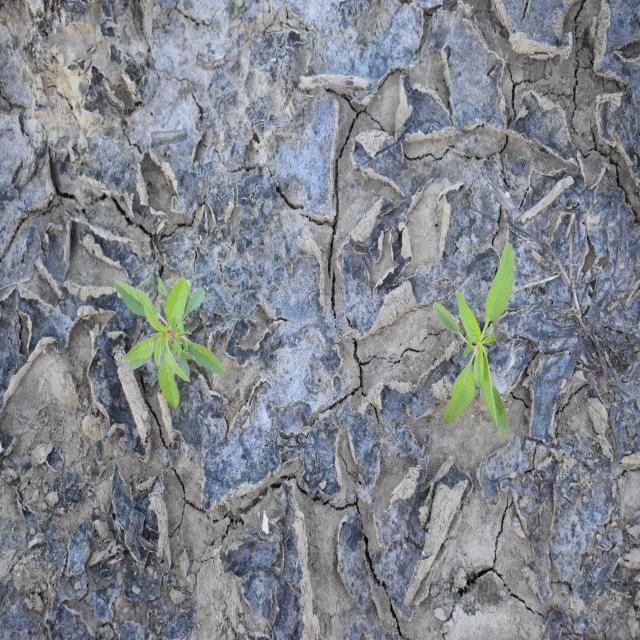Waterhemp: (432, 242, 516, 442), (113, 275, 227, 412)
